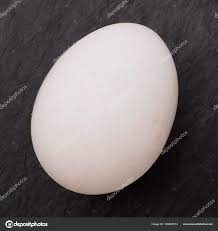egg: (31, 24, 178, 195)
